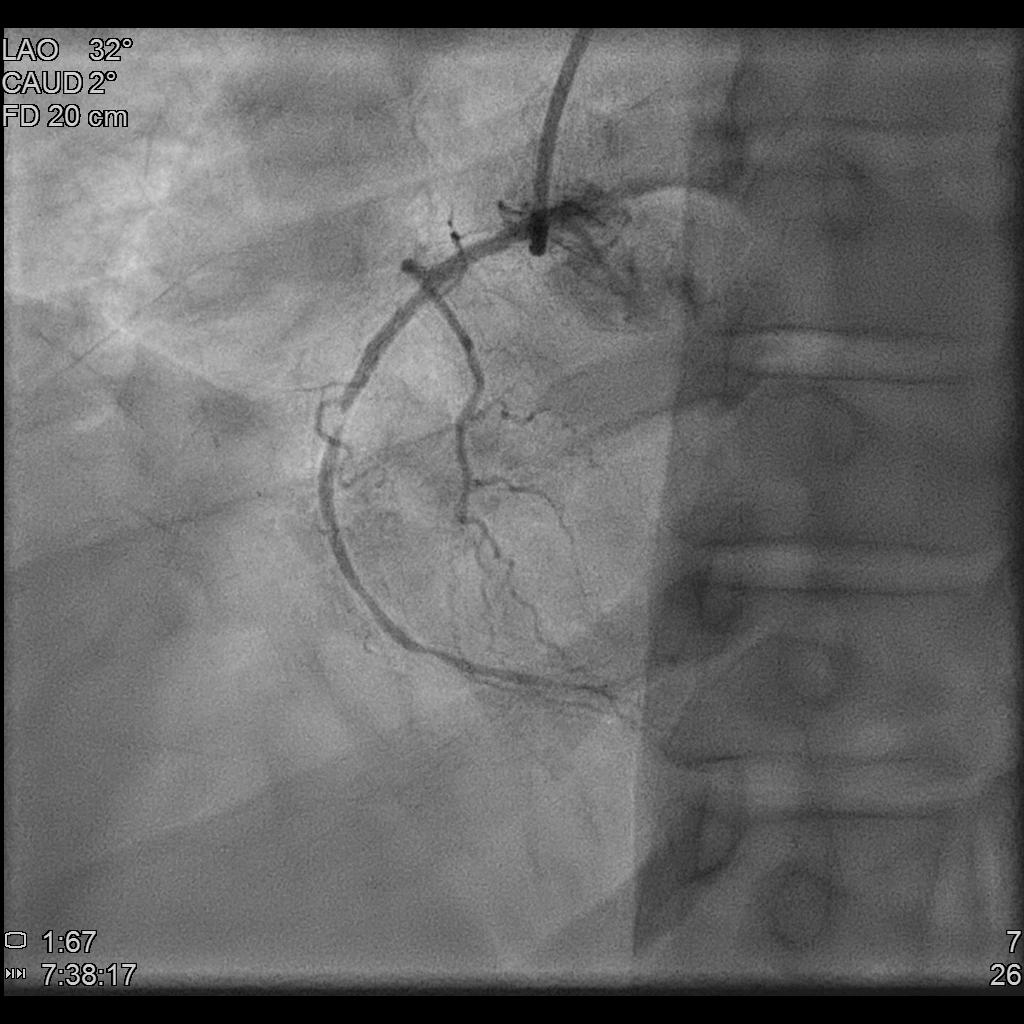block: (308, 376, 394, 486)
